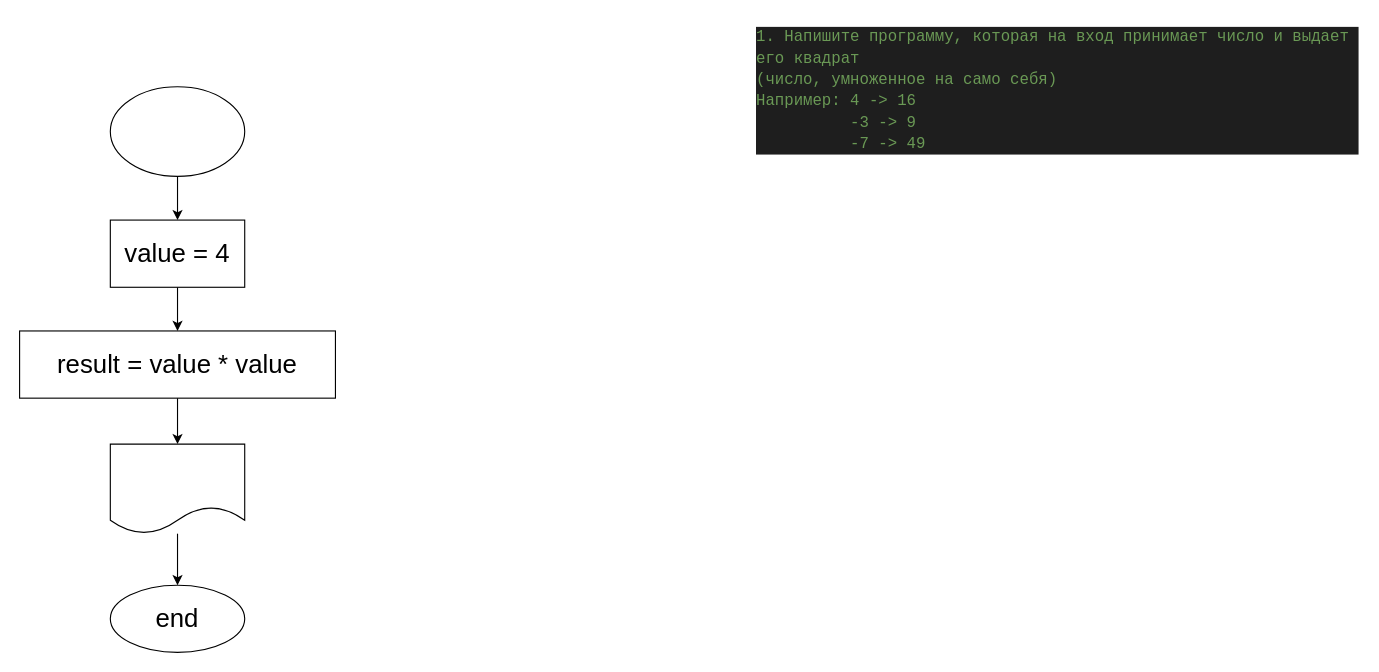
Some shapes in this 1379 by 672 pixel diagram are drawn without their labels. The shapes that lost their labels are listed below. From the top down, each one's centre as x and y in pixels, then its label:
At (177,131): "start".
At (177,488): "result".
